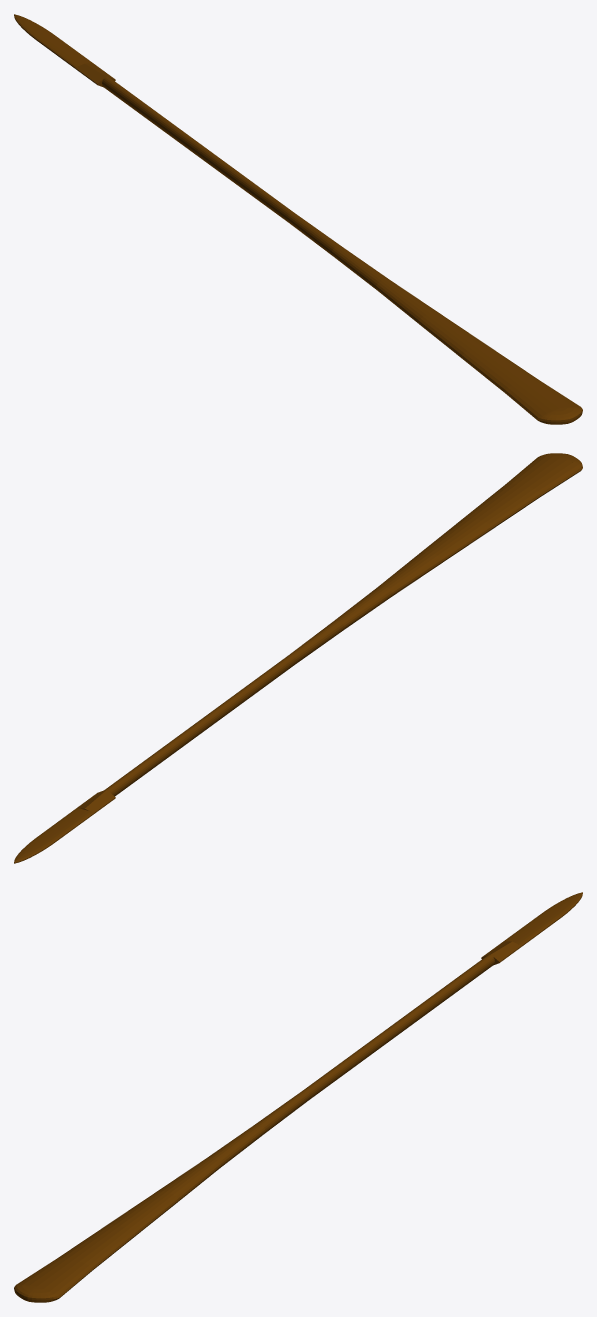
File: Taiaha.fbx
The picture shows the model from 3 angles, top to bottom: view 1: azimuth 30°, elevation 25°; view 2: azimuth 150°, elevation 25°; view 3: azimuth 330°, elevation 25°; orthographic projection.
Visible parts, largest first — view 1: Taiaha; view 2: Taiaha; view 3: Taiaha.
Part boxes in pixels (box(x1,y1,x2,y2)): Taiaha: box(14, 14, 582, 424); Taiaha: box(14, 453, 582, 863); Taiaha: box(14, 892, 582, 1302).
Size of the model in its own units: 8.47 by 2 by 180.
